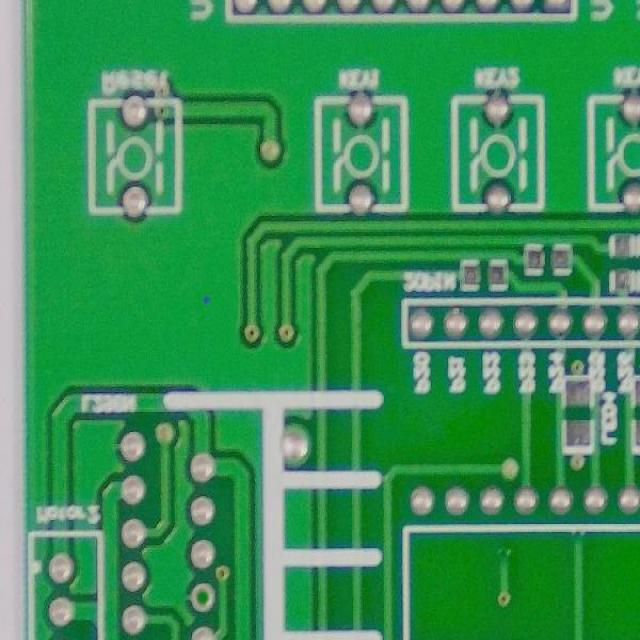missing hole: (187, 576, 220, 617)
